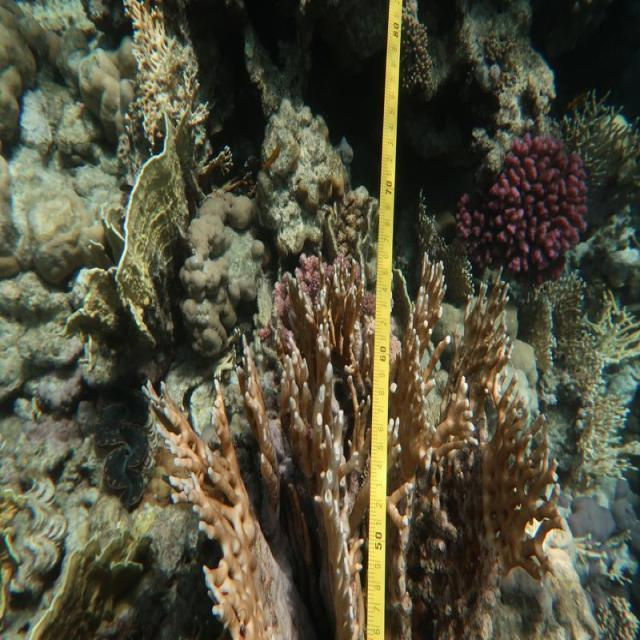Healthy Coral: (184, 252, 593, 640), (454, 128, 591, 287)
